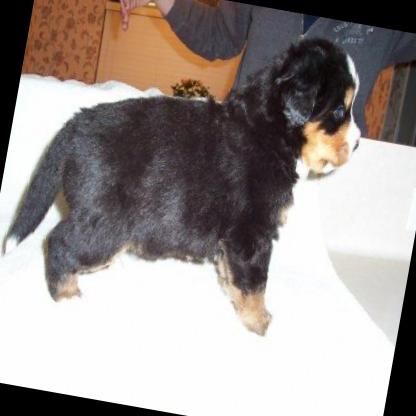Bernese_mountain_dog: (0, 0, 376, 349)
